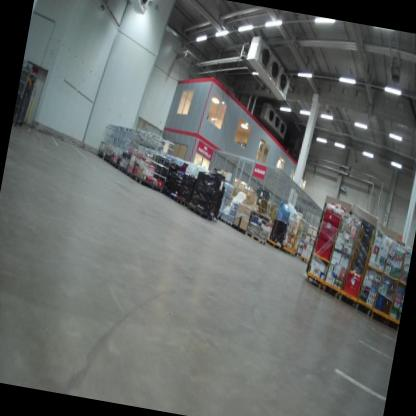pallet: (193, 205, 217, 221), (243, 232, 269, 243), (232, 223, 246, 235), (167, 189, 178, 202), (187, 202, 197, 216), (181, 197, 190, 209), (224, 218, 235, 227), (173, 195, 182, 206), (218, 215, 227, 225)
